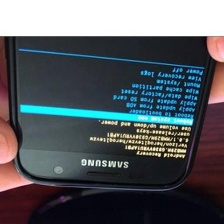phone: (2, 0, 224, 194)
